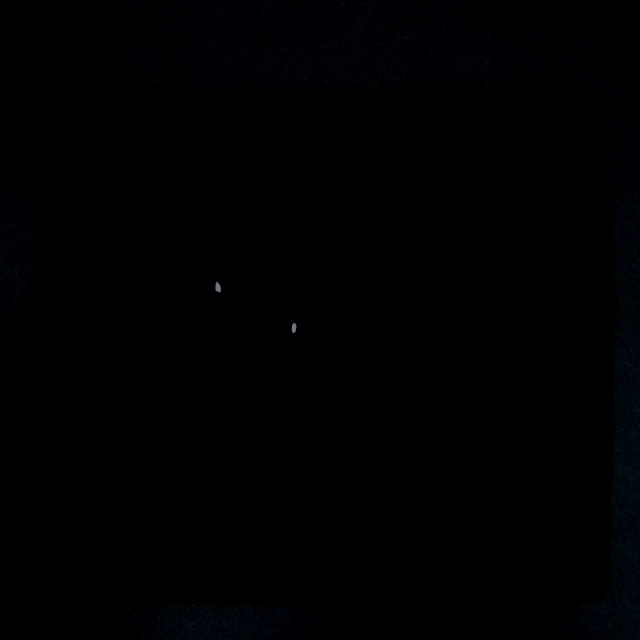stain: (130, 142, 430, 541), (88, 122, 312, 467)
